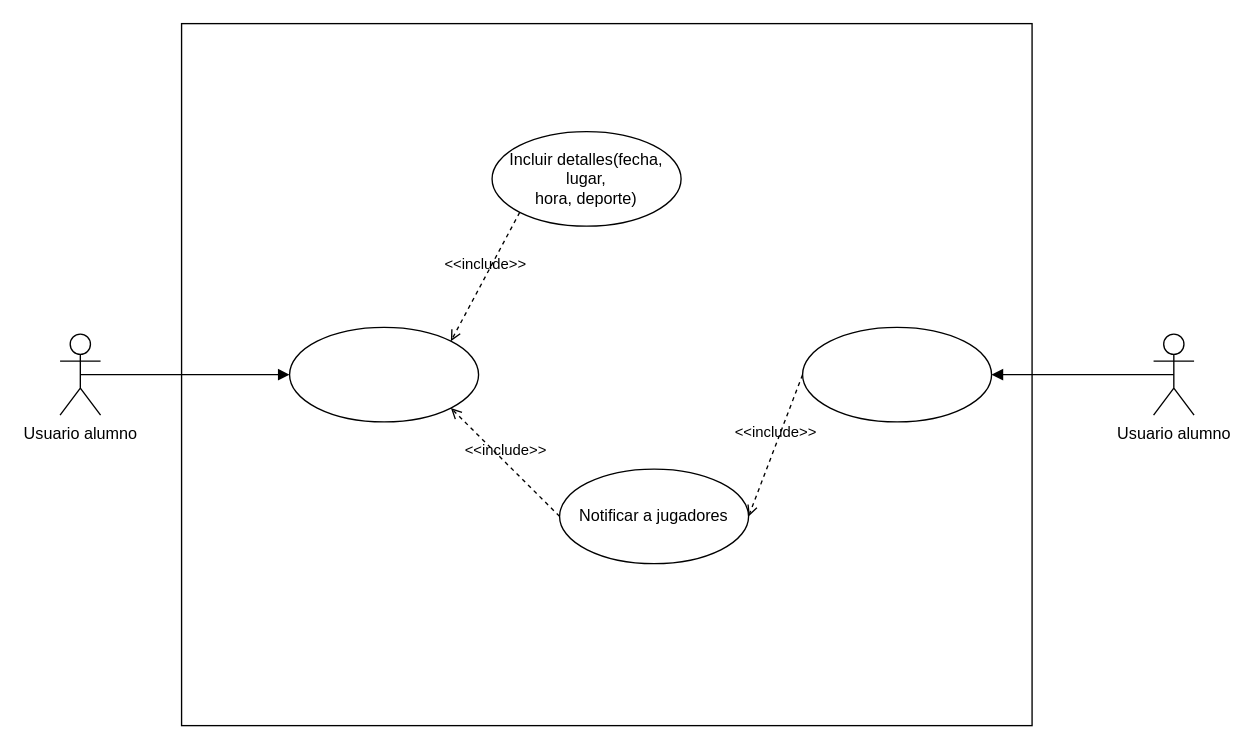
Some shapes in this 1253 by 749 pixel diagram are drawn without their labels. Each missing label, with the centre of its shape:
"Aceptar o cancelar desafío" belongs at pixel 896 374.
"Desafiar a otro jugador" belongs at pixel 383 374.
